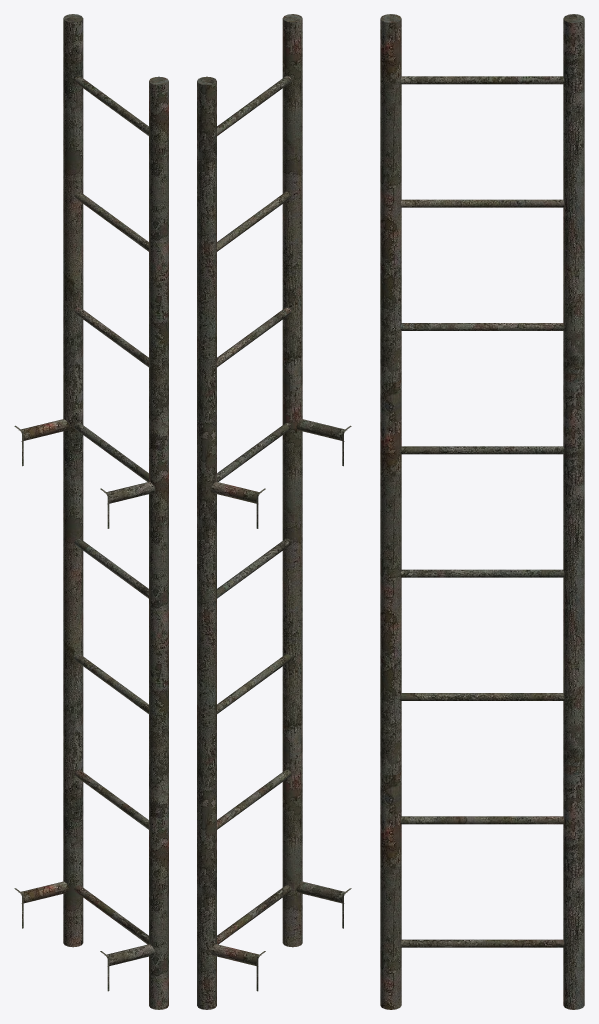
The model's file is metalladder002.glb.
3 views of the same model, side by side, from view 1: azimuth 30°, elevation 25°; view 2: azimuth 150°, elevation 25°; view 3: azimuth 270°, elevation 25° (orthographic). The views are drawn at different scales.
Visible parts, largest first — view 1: 0_metalladder002; view 2: 0_metalladder002; view 3: 0_metalladder002.
Boxes of the visible parts, <box> form: 0_metalladder002: <box>14,14,168,1009</box>; 0_metalladder002: <box>197,14,351,1009</box>; 0_metalladder002: <box>380,14,584,1009</box>.
Size of the model in its own units: 0.2349 by 3.25 by 0.6096.
1 material, 1 textured.
